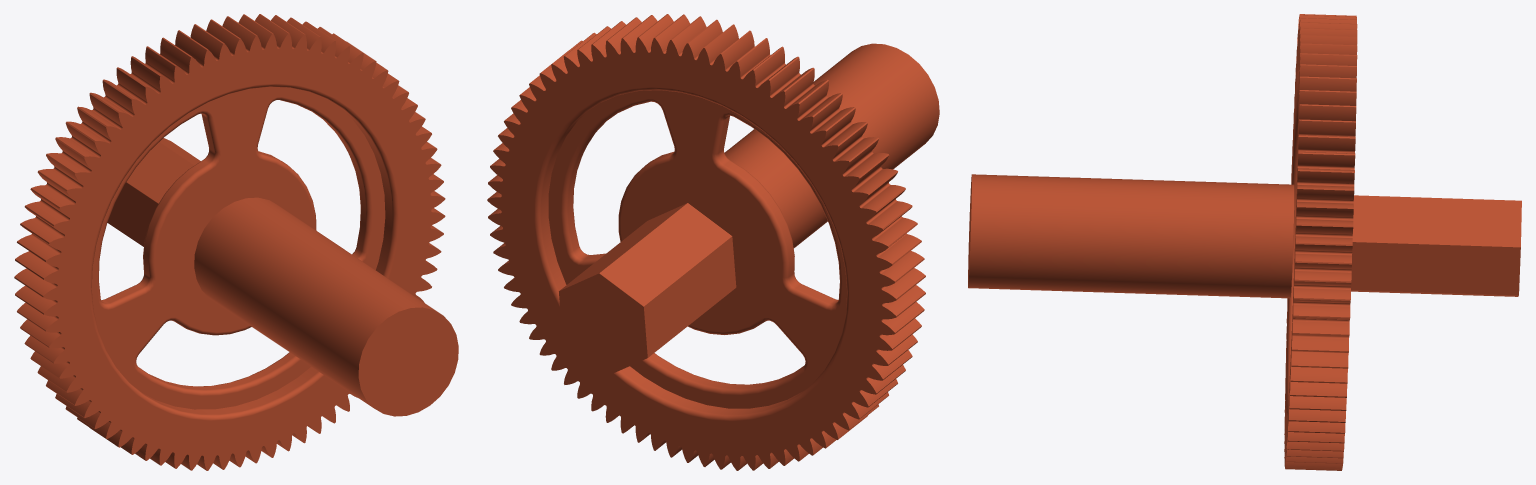
File: Arm gear.gltf
3 renders of one model, left to right at view 1: azimuth 30°, elevation 25°; view 2: azimuth 150°, elevation 25°; view 3: azimuth 270°, elevation 25°, orthographic. The views are drawn at different scales.
Parts seen in each view (by area): view 1: Solid1; view 2: Solid1; view 3: Solid1.
Part boxes in pixels (bbox=[...]): Solid1: bbox=[14, 14, 458, 470]; Solid1: bbox=[487, 14, 939, 470]; Solid1: bbox=[968, 14, 1521, 470].
Size of the model in its own units: 0.00024 by 0.000241 by 0.000292.
